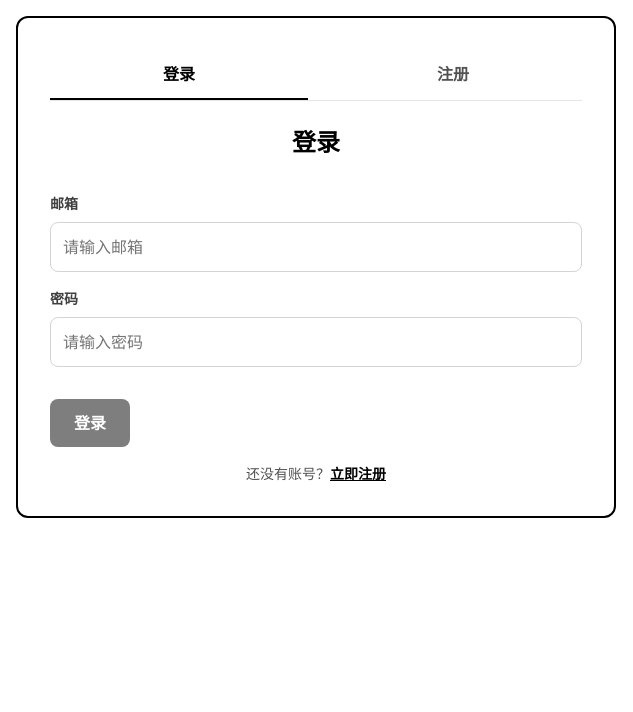
Test: ProfileView › 注册功能 › 密码不一致时应该显示错误
The width and height of the screenshot is (633, 712).
Click the button with class "auth-tab" showing "注册".
click(453, 75)  # box left=324, top=50, right=582, bottom=100
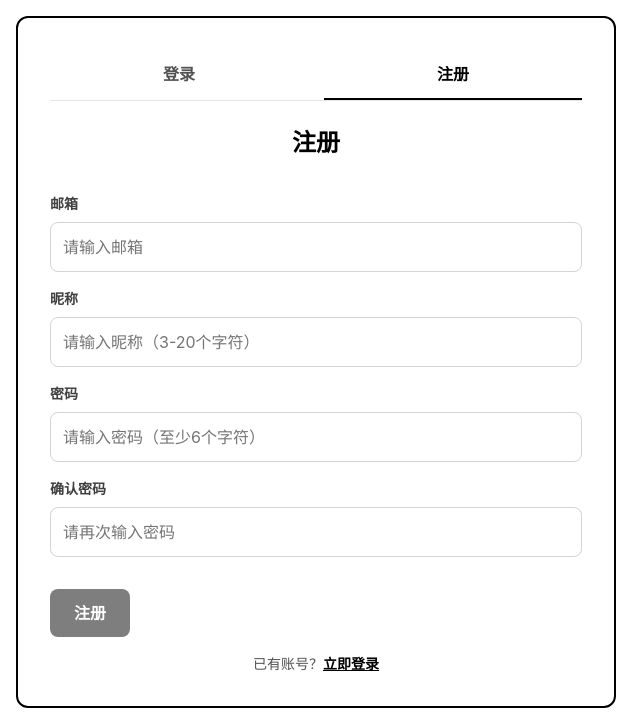
Type "password123" into the password field with id "register-password".
click(316, 437); type("password123")  # box left=50, top=412, right=582, bottom=462
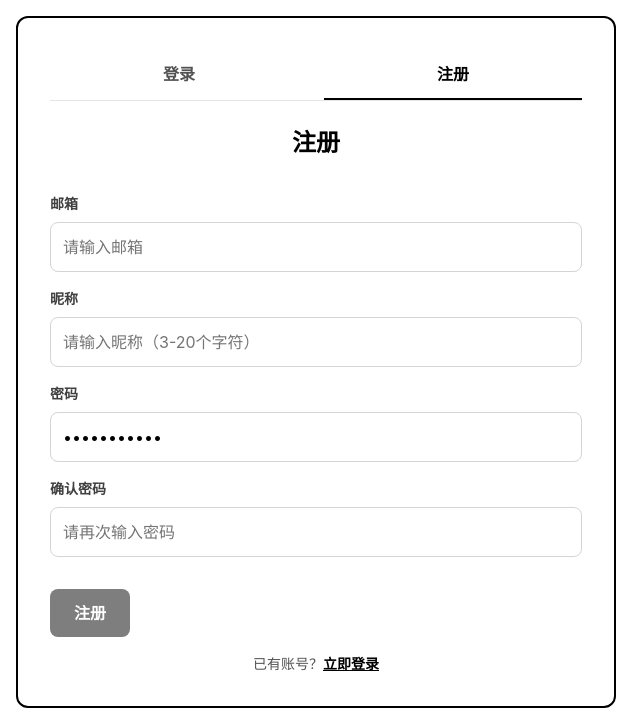
Type "password456" into the password field with id "register-confirmPassword".
click(316, 532); type("password456")  # box left=50, top=507, right=582, bottom=557
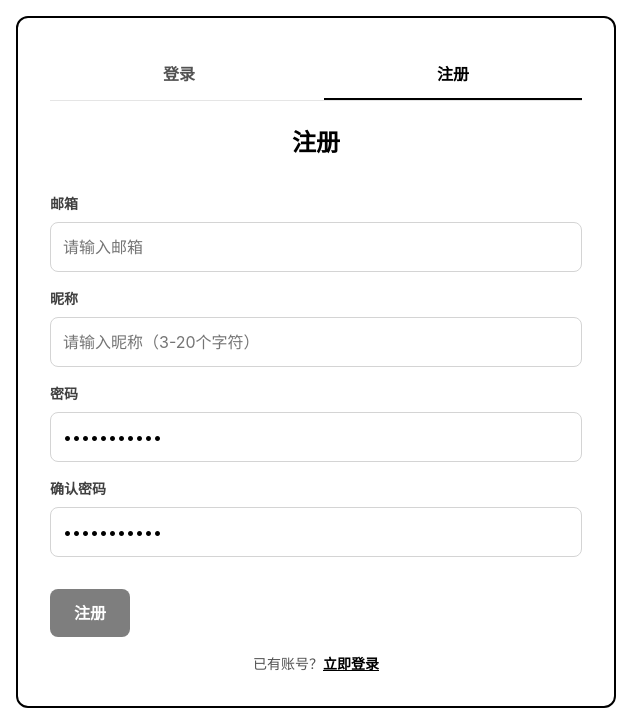
Submit the form with class "auth-form", box left=50, top=193, right=582, bottom=674
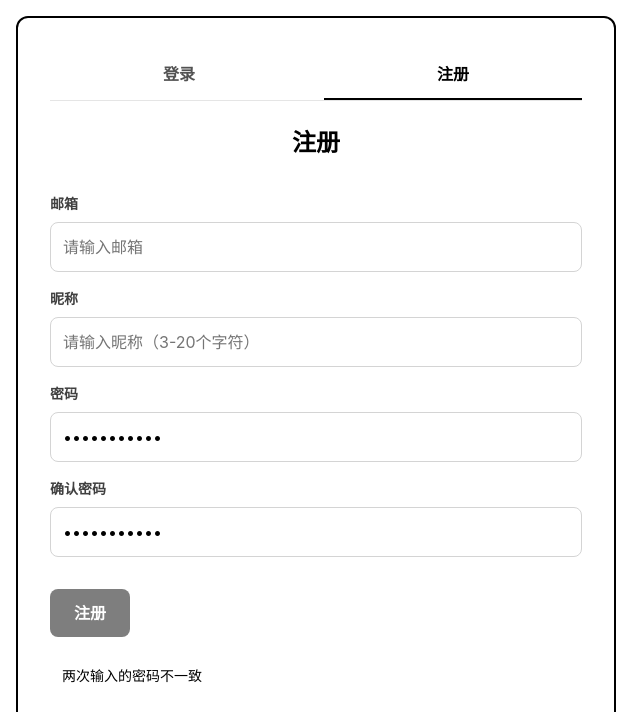
Expected: the text with class "error-message" reads "两次输入的密码不一致", left=62, top=667, right=202, bottom=684
